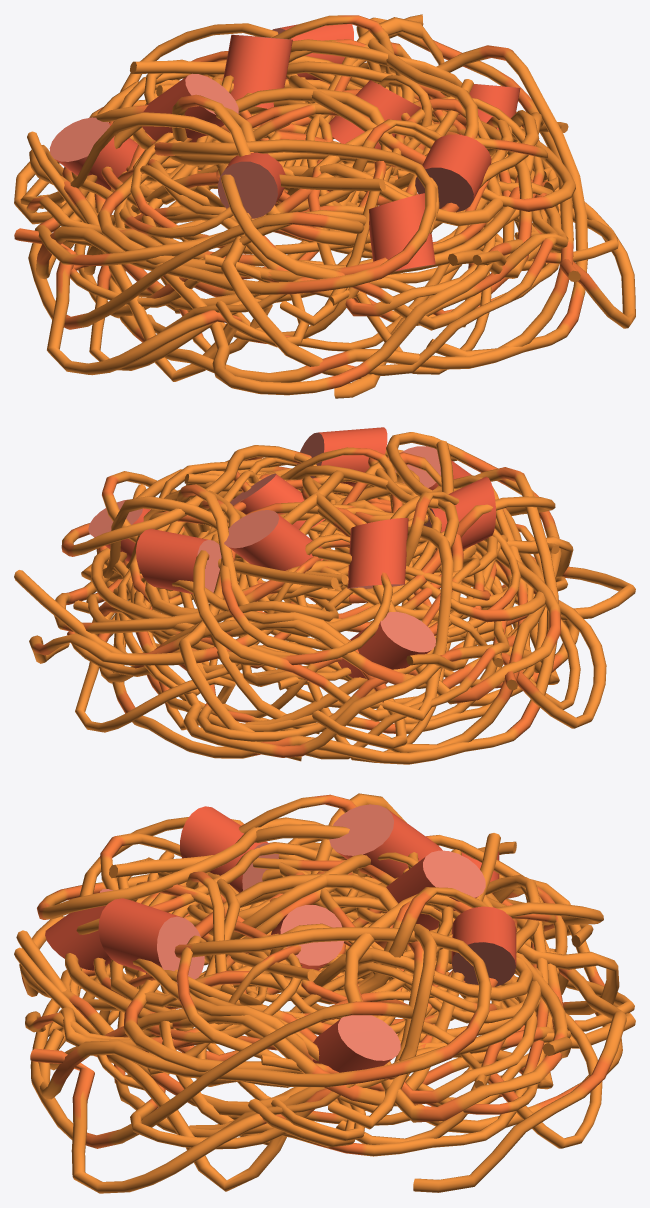
File: Neapolitan.fbx
The picture shows the model from 3 angles, top to bottom: view 1: azimuth 30°, elevation 25°; view 2: azimuth 150°, elevation 25°; view 3: azimuth 270°, elevation 25°; orthographic projection. The views are drawn at different scales.
Parts seen in each view (by area): view 1: Neapolitan; view 2: Neapolitan; view 3: Neapolitan.
Boxes of the visible parts, x1,y1,x2,y2 form: Neapolitan: (14,14,635,398); Neapolitan: (14,427,635,764); Neapolitan: (14,793,635,1193).
Size of the model in its own units: 294 by 123 by 296.
1 material, 1 textured.
